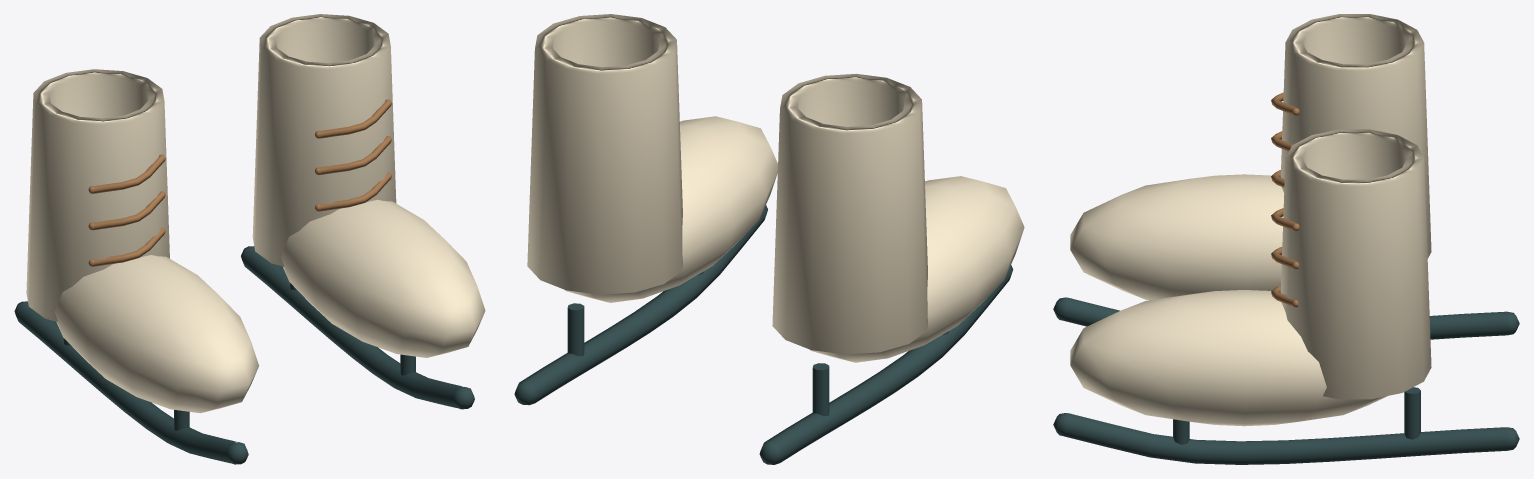
Rendered from almanac-gardens-ice-skates-3ee55c68__22096.glb.
3 renders of one model, left to right at view 1: azimuth 30°, elevation 25°; view 2: azimuth 150°, elevation 25°; view 3: azimuth 270°, elevation 25°, orthographic. The views are drawn at different scales.
Parts seen in each view (by area): view 1: ice-skates-ivory, ice-skates-iron, ice-skates-oak; view 2: ice-skates-ivory, ice-skates-iron; view 3: ice-skates-ivory, ice-skates-iron, ice-skates-oak.
Boxes of the visible parts, <box> form: ice-skates-ivory: <box>26,14,485,413</box>; ice-skates-iron: <box>14,246,474,464</box>; ice-skates-oak: <box>88,99,391,266</box>; ice-skates-ivory: <box>527,14,1024,362</box>; ice-skates-iron: <box>514,205,1013,464</box>; ice-skates-ivory: <box>1070,14,1431,426</box>; ice-skates-iron: <box>1053,297,1519,464</box>; ice-skates-oak: <box>1271,92,1299,307</box>.
Bounding box in the file's own units: 0.41 × 0.3218 × 0.444.
